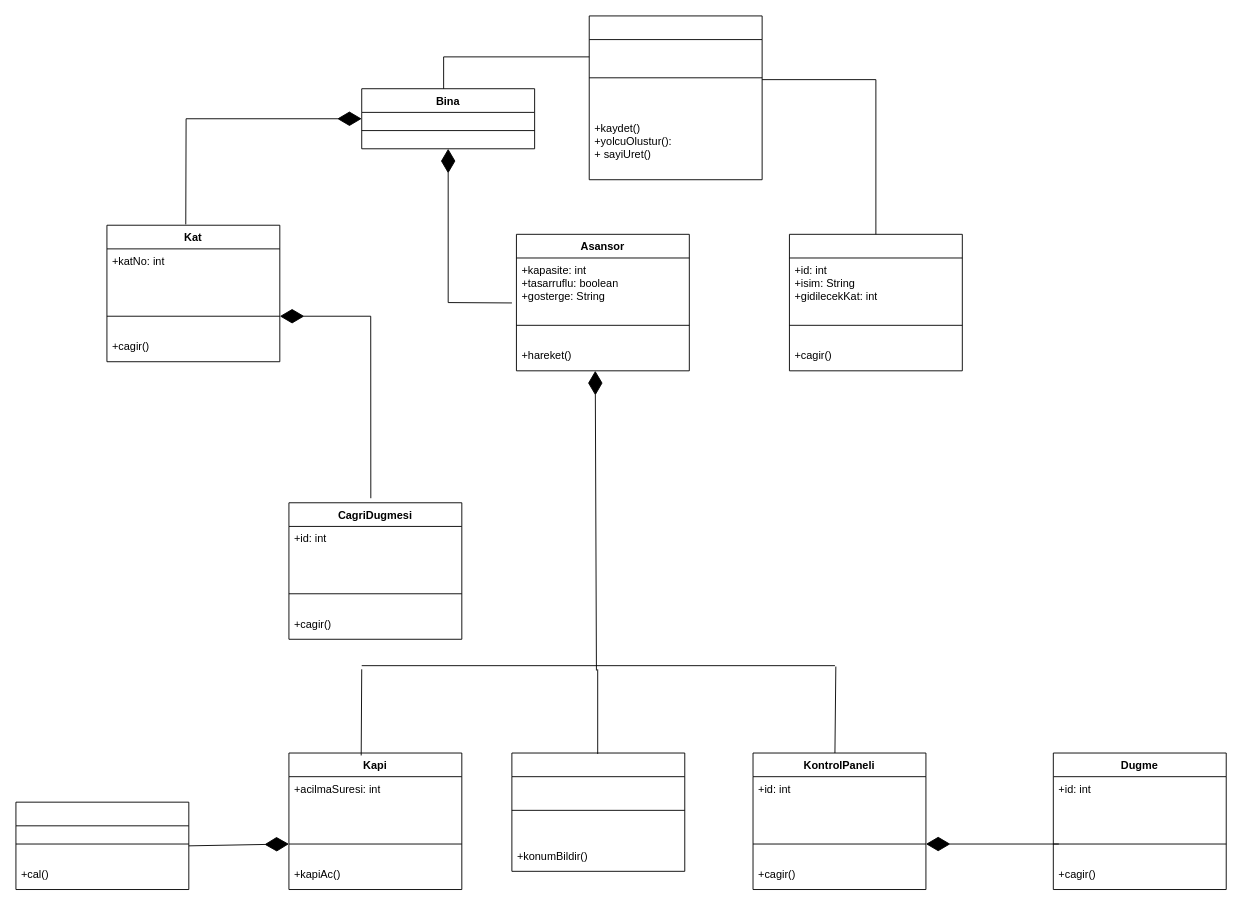
Image size: 1242x908. Some labels were removed from this diagram. Each missing label, with the box of its shape:
GostergeIsik: (511, 752, 685, 871)
Simulator: (588, 15, 762, 180)
Yolcu: (789, 233, 962, 371)
Zil: (15, 801, 189, 890)
